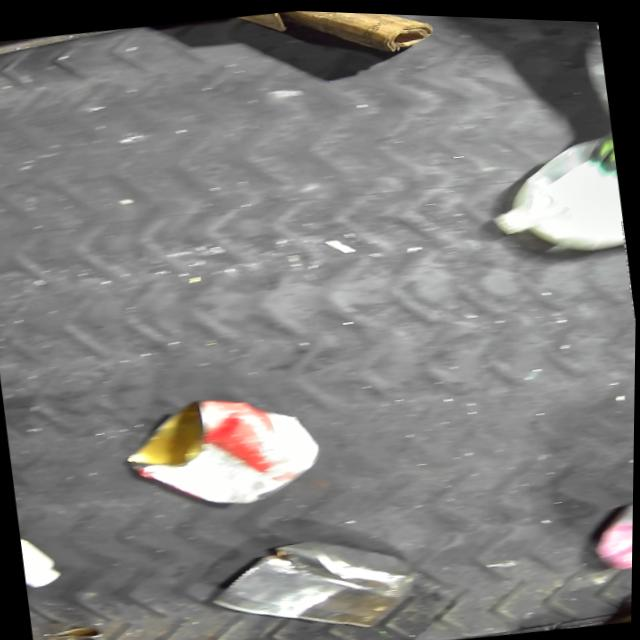can: (114, 378, 332, 524), (203, 519, 428, 640), (586, 490, 634, 571), (44, 618, 136, 640)
milk_jug: (483, 129, 629, 262)
